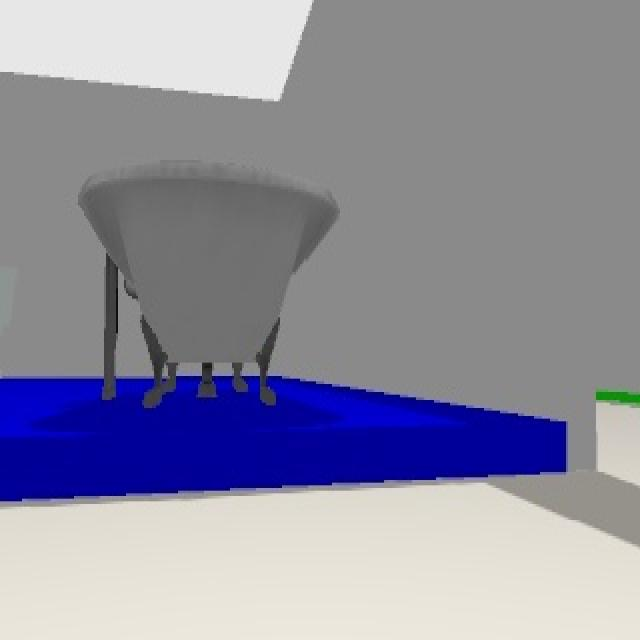bathtub: (82, 163, 340, 411)
